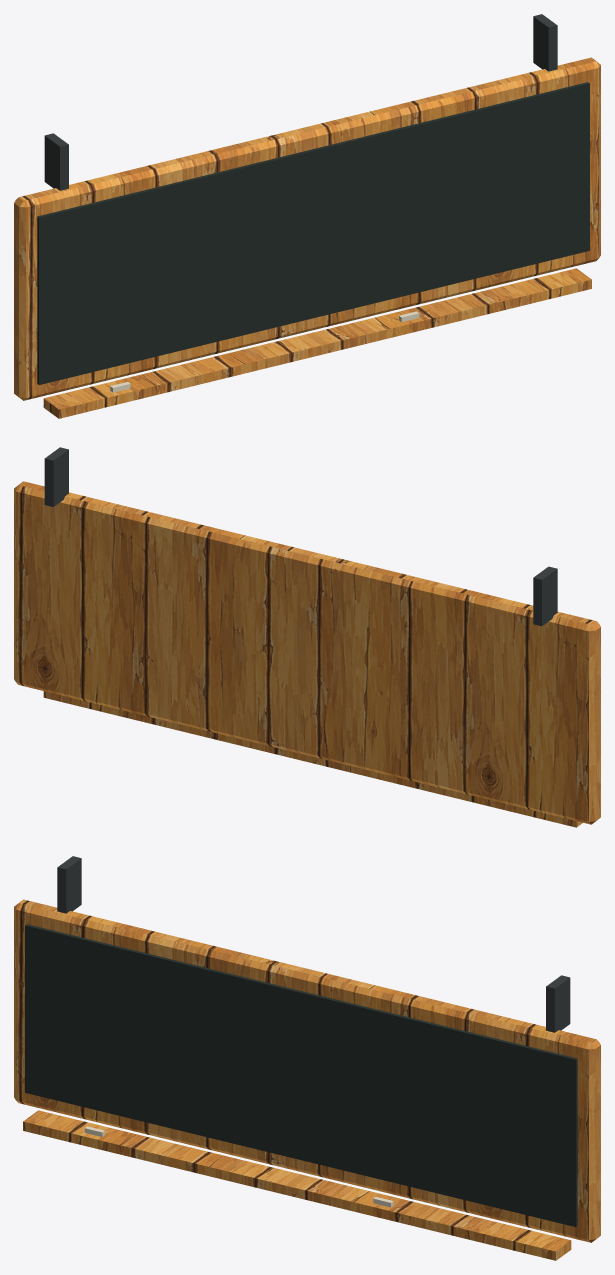
3 views of the same model, one above another, from view 1: azimuth 30°, elevation 25°; view 2: azimuth 150°, elevation 25°; view 3: azimuth 330°, elevation 25° (orthographic).
Parts seen in each view (by area): view 1: shop_chalk, shop_oak, shop_iron; view 2: shop_oak, shop_iron; view 3: shop_chalk, shop_oak, shop_iron.
Boxes of the visible parts, x1,y1,x2,y2 form: shop_chalk: [37, 82, 589, 384]; shop_oak: [14, 57, 600, 418]; shop_iron: [44, 14, 557, 190]; shop_oak: [14, 481, 600, 827]; shop_iron: [44, 447, 557, 626]; shop_chalk: [25, 924, 577, 1226]; shop_oak: [14, 899, 600, 1260]; shop_iron: [57, 856, 570, 1032].
Size of the model in its own units: 2.62 by 1.1 by 0.25.
4 materials, 1 textured.
